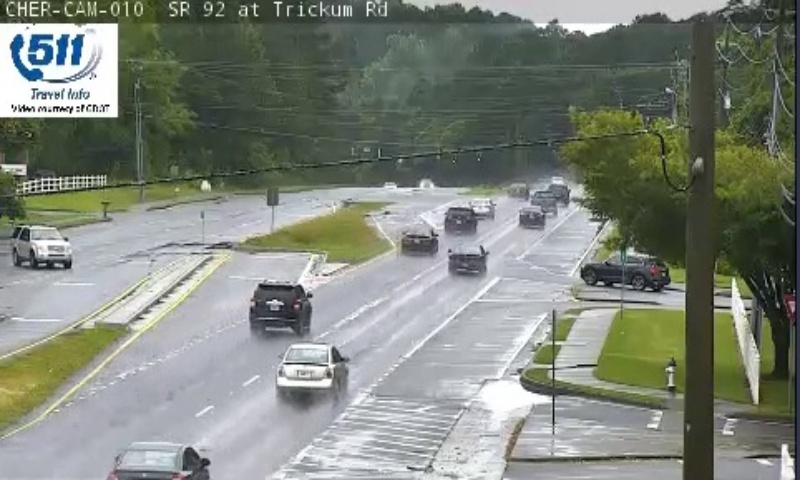car: (109, 442, 210, 480), (277, 342, 346, 395), (250, 285, 310, 328), (447, 243, 487, 272), (401, 225, 438, 254), (446, 207, 474, 232), (468, 198, 492, 220), (531, 191, 556, 212), (518, 209, 545, 227)
